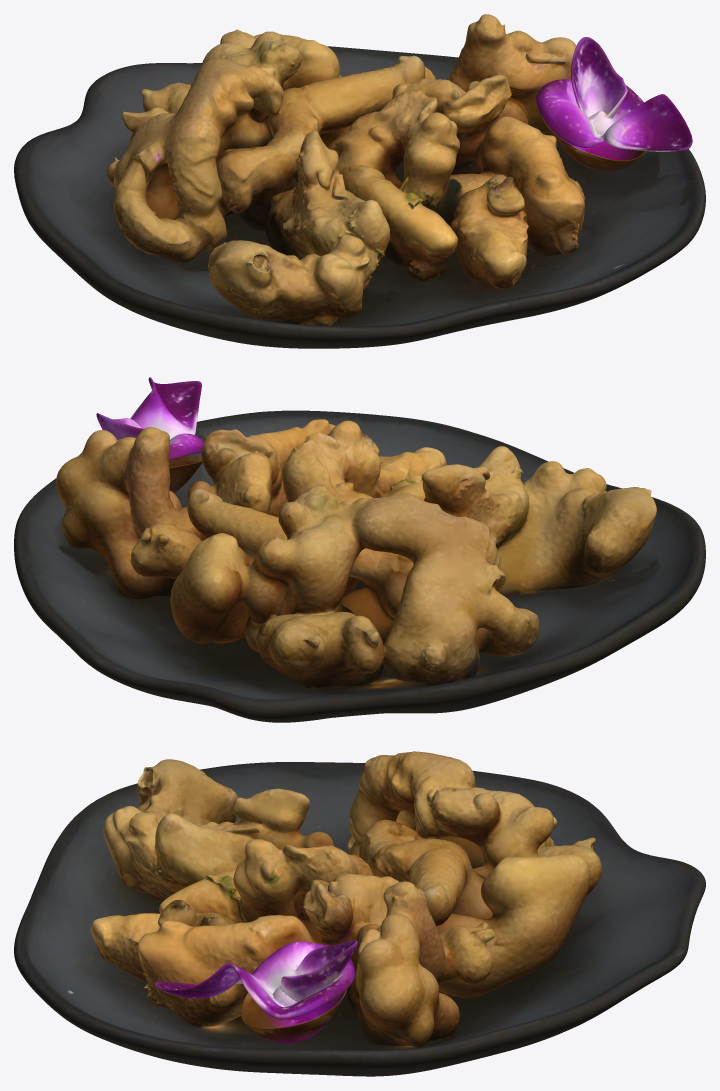
The model's file is Salt and Pepper Pork Strips.glb.
The picture shows the model from 3 angles, top to bottom: view 1: azimuth 30°, elevation 25°; view 2: azimuth 150°, elevation 25°; view 3: azimuth 270°, elevation 25°; orthographic projection. The views are drawn at different scales.
Parts seen in each view (by area): view 1: material; view 2: material; view 3: material.
Boxes of the visible parts, x1,y1,x2,y2 form: material: (14,14,705,348); material: (14,377,705,722); material: (14,751,705,1076).
Bounding box in the file's own units: 1.11 × 0.3459 × 1.11.
1 material, 1 textured.
